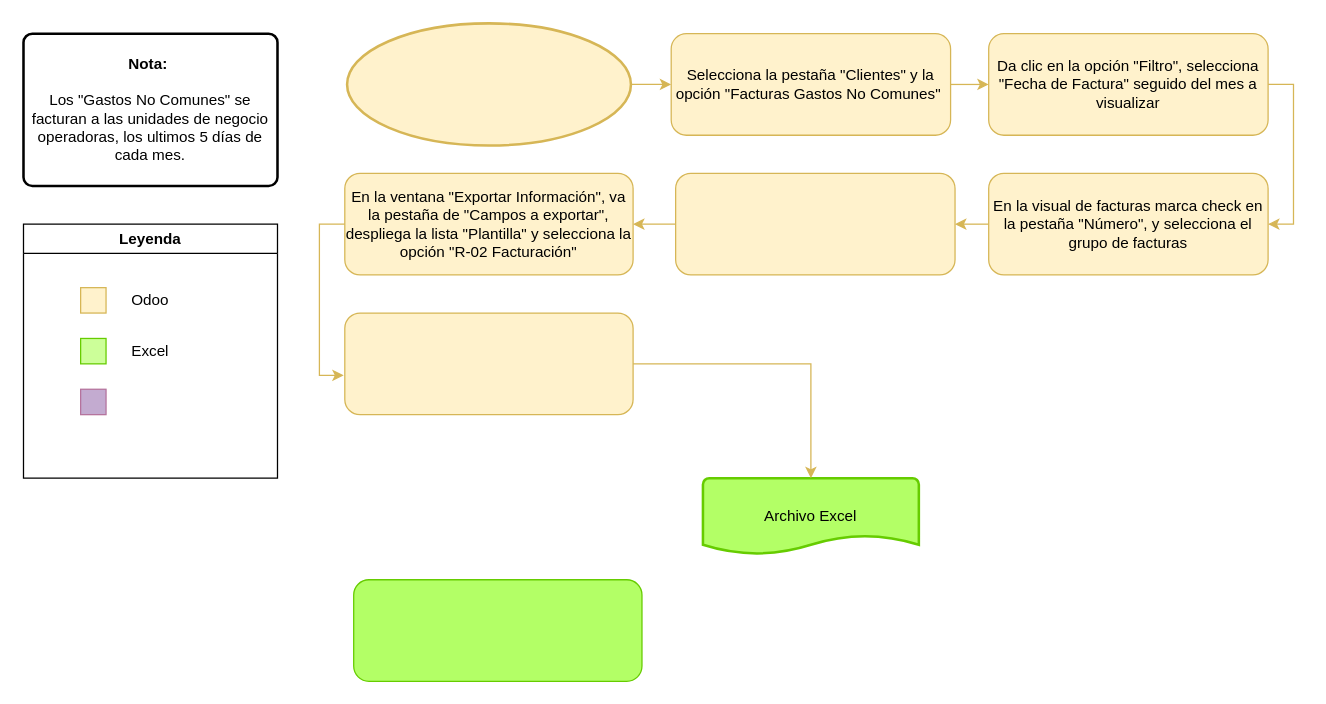
This 1326x704 diagram has some shape labels left out. Here are the shapes that lost their labels. From the top down, the centre of each, then its label:
the point at 488,83: Selecciona la compañía "Operadora", ingresa al módulo "Contabilidad"
the point at 814,223: Da clic en "Acción" seguido de la opción "Exportar"
the point at 488,363: Da clic en el botón "Exportar"
